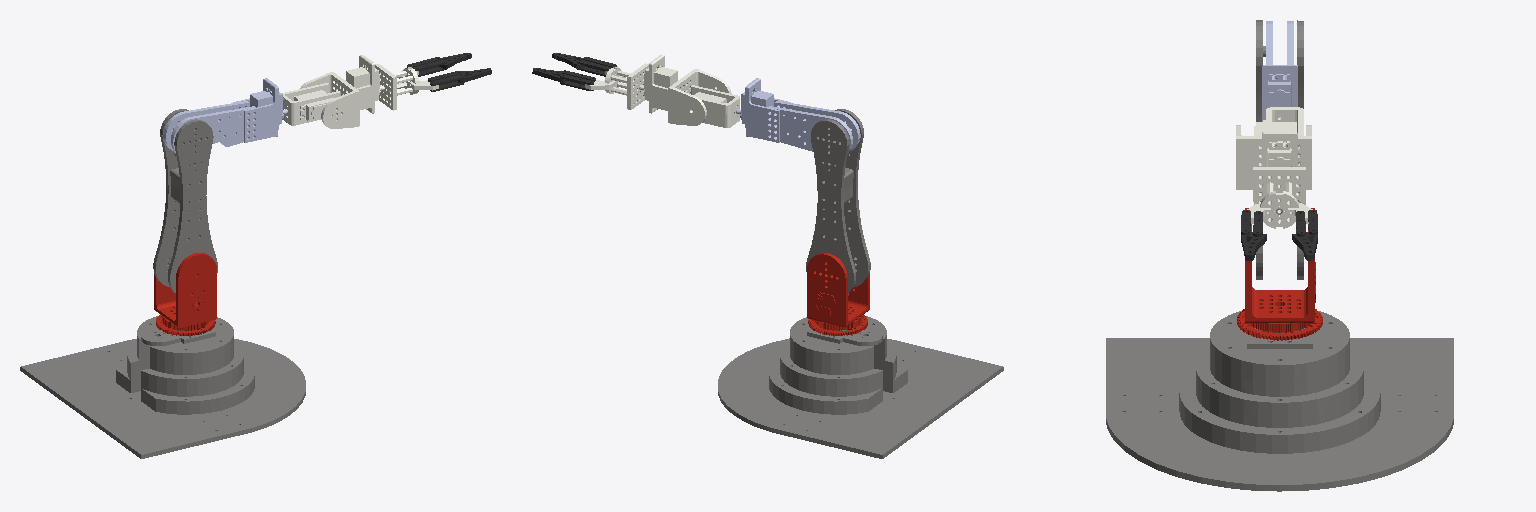
robot.urdf — ra6_v2_description:
<?xml version="1.0" encoding="utf-8"?>
<!-- This URDF was automatically created by SolidWorks to URDF Exporter! Originally created by [author] ([email redacted]) 
     Commit Version: 1.6.0-1-g15f4949  Build Version: 1.6.7594.29634
     For more information, please see http://wiki.ros.org/sw_urdf_exporter -->
<robot
  name="ra6_v2_description">
  <gazebo>
    <plugin filename="libgazebo_ros_control.so" name="control"/>
  </gazebo>
  
  <link
    name="base_link">
    <inertial>
      <origin
        xyz="-0.0140542711697544 -2.18207360791478E-08 0.00299999999999978"
        rpy="0 0 0" />
      <mass
        value="0.47945628174031" />
      <inertia
        ixx="0.00321201871122315"
        ixy="1.58019630837799E-10"
        ixz="-1.82396172262219E-17"
        iyy="0.0031224531436927"
        iyz="-1.04833939071884E-17"
        izz="0.00633159511726462" />
    </inertial>
    <visual>
      <origin
        xyz="0 0 0"
        rpy="0 0 0" />
      <geometry>
        <mesh
          filename="package://ra6_v2_description/meshes/base_link.STL" />
      </geometry>
      <material
        name="">
        <color
          rgba="0.564705882352941 0.556862745098039 0.545098039215686 1" />
      </material>
    </visual>
    <collision>
      <origin
        xyz="0 0 0"
        rpy="0 0 0" />
      <geometry>
        <mesh
          filename="package://ra6_v2_description/meshes/base_link.STL" />
      </geometry>
    </collision>
  </link>
  <link
    name="base">
    <inertial>
      <origin
        xyz="0.00465582272277912 -1.12147552952524E-07 -0.0388814692501041"
        rpy="0 0 0" />
      <mass
        value="0.847797073878397" />
      <inertia
        ixx="0.00191250789301448"
        ixy="4.52157907236518E-09"
        ixz="4.11436397082813E-05"
        iyy="0.0016595870711532"
        iyz="1.04789099927639E-09"
        izz="0.00272115397239837" />
    </inertial>
    <visual>
      <origin
        xyz="0 0 0"
        rpy="0 0 0" />
      <geometry>
        <mesh
          filename="package://ra6_v2_description/meshes/base.STL" />
      </geometry>
      <material
        name="">
        <color
          rgba="0.564705882352941 0.556862745098039 0.545098039215686 1" />
      </material>
    </visual>
    <collision>
      <origin
        xyz="0 0 0"
        rpy="0 0 0" />
      <geometry>
        <mesh
          filename="package://ra6_v2_description/meshes/base.STL" />
      </geometry>
    </collision>
  </link>
  <joint
    name="rigid_1"
    type="fixed">
    <origin
      xyz="0 0 0.078"
      rpy="0 0 0" />
    <parent
      link="base_link" />
    <child
      link="base" />
    <axis
      xyz="0 0 0" />
  </joint>
  <link
    name="link_1">
    <inertial>
      <origin
        xyz="4.38172552685856E-08 -1.25521381516697E-05 0.0385864093403186"
        rpy="0 0 0" />
      <mass
        value="0.0959374083475846" />
      <inertia
        ixx="0.000141767922201664"
        ixy="-3.0047571678898E-08"
        ixz="-1.29608727630884E-09"
        iyy="0.000114437590101475"
        iyz="6.96911959091854E-07"
        izz="7.57931314663248E-05" />
    </inertial>
    <visual>
      <origin
        xyz="0 0 0"
        rpy="0 0 0" />
      <geometry>
        <mesh
          filename="package://ra6_v2_description/meshes/link_1.STL" />
      </geometry>
      <material
        name="">
        <color
          rgba="0.768627450980392 0.207843137254902 0.152941176470588 1" />
      </material>
    </visual>
    <collision>
      <origin
        xyz="0 0 0"
        rpy="0 0 0" />
      <geometry>
        <mesh
          filename="package://ra6_v2_description/meshes/link_1.STL" />
      </geometry>
    </collision>
  </link>
  <joint
    name="joint_1"
    type="revolute">
    <origin
      xyz="0 0 0.011325"
      rpy="0 0 0" />
    <parent
      link="base" />
    <child
      link="link_1" />
    <axis
      xyz="0 0 1" />
    <limit
      effort="30" velocity="1.0" lower="-3.141" upper="3.141" />

  </joint>
  <link
    name="link_2">
    <inertial>
      <origin
        xyz="0.000676327095972762 -0.000267741344243816 0.0846265565078096"
        rpy="0 0 0" />
      <mass
        value="0.15459039863482" />
      <inertia
        ixx="0.000700616768380182"
        ixy="-1.30679472918762E-08"
        ixz="-5.06269794302915E-06"
        iyy="0.000687122012981791"
        iyz="2.55856521066154E-07"
        izz="7.01358986108912E-05" />
    </inertial>
    <visual>
      <origin
        xyz="0 0 0"
        rpy="0 0 0" />
      <geometry>
        <mesh
          filename="package://ra6_v2_description/meshes/link_2.STL" />
      </geometry>
      <material
        name="">
        <color
          rgba="0.564705882352941 0.556862745098039 0.545098039215686 1" />
      </material>
    </visual>
    <collision>
      <origin
        xyz="0 0 0"
        rpy="0 0 0" />
      <geometry>
        <mesh
          filename="package://ra6_v2_description/meshes/link_2.STL" />
      </geometry>
    </collision>
  </link>
  <joint
    name="joint_2"
    type="revolute">
    <origin
      xyz="0 0 0.079175"
      rpy="0 0 0" />
    <parent
      link="link_1" />
    <child
      link="link_2" />
    <axis
      xyz="0 -1 0" />
    <limit
      effort="30" velocity="1.0" lower="-1.05" upper="1.3" />

  </joint>
  <link
    name="link_3">
    <inertial>
      <origin
        xyz="0.0689892331340525 0.000128208989230841 0.00303993015687587"
        rpy="0 0 0" />
      <mass
        value="0.106330141972339" />
      <inertia
        ixx="3.11480390939474E-05"
        ixy="1.10639450234638E-06"
        ixz="-1.2787371632868E-05"
        iyy="0.000251799011261306"
        iyz="4.73970698854002E-07"
        izz="0.000238311887582398" />
    </inertial>
    <visual>
      <origin
        xyz="0 0 0"
        rpy="0 0 0" />
      <geometry>
        <mesh
          filename="package://ra6_v2_description/meshes/link_3.STL" />
      </geometry>
      <material
        name="">
        <color
          rgba="0.792156862745098 0.819607843137255 0.933333333333333 1" />
      </material>
    </visual>
    <collision>
      <origin
        xyz="0 0 0"
        rpy="0 0 0" />
      <geometry>
        <mesh
          filename="package://ra6_v2_description/meshes/link_3.STL" />
      </geometry>
    </collision>
  </link>
  <joint
    name="joint_3"
    type="revolute">
    <origin
      xyz="0.0014944 0 0.17999"
      rpy="0 0 0" />
    <parent
      link="link_2" />
    <child
      link="link_3" />
    <axis
      xyz="0 -1 0" />
    <limit
      effort="30" velocity="1.0" lower="-0.785" upper="1.57" />

  </joint>
  <link
    name="link_4">
    <inertial>
      <origin
        xyz="0.0352186303151772 0.000651786261046783 -0.000240852600342567"
        rpy="0 0 0" />
      <mass
        value="0.0508120689092489" />
      <inertia
        ixx="1.14032161816049E-05"
        ixy="9.69456779605165E-07"
        ixz="1.1757033683992E-07"
        iyy="1.90901672744309E-05"
        iyz="2.11574511431435E-08"
        izz="2.47887618141905E-05" />
    </inertial>
    <visual>
      <origin
        xyz="0 0 0"
        rpy="0 0 0" />
      <geometry>
        <mesh
          filename="package://ra6_v2_description/meshes/link_4.STL" />
      </geometry>
      <material
        name="">
        <color
          rgba="0.972549019607843 0.968627450980392 0.929411764705882 1" />
      </material>
    </visual>
    <collision>
      <origin
        xyz="0 0 0"
        rpy="0 0 0" />
      <geometry>
        <mesh
          filename="package://ra6_v2_description/meshes/link_4.STL" />
      </geometry>
    </collision>
  </link>
  <joint
    name="joint_4"
    type="revolute">
    <origin
      xyz="0.14364 -0.00016175 -0.0015988"
      rpy="0 0 0" />
    <parent
      link="link_3" />
    <child
      link="link_4" />
    <axis
      xyz="1 0 0" />
    <limit
      effort="30" velocity="1.0" lower="-1.57" upper="1.57" />

  </joint>
  <link
    name="link_5">
    <inertial>
      <origin
        xyz="0.0407311125592921 -0.00227194309173936 0.0048575829153889"
        rpy="0 0 0" />
      <mass
        value="0.0806645184388653" />
      <inertia
        ixx="4.30732285547851E-05"
        ixy="-3.80757762759464E-06"
        ixz="-7.48546182306301E-06"
        iyy="6.15131524088532E-05"
        iyz="-8.39861717315056E-07"
        izz="7.19395388835183E-05" />
    </inertial>
    <visual>
      <origin
        xyz="0 0 0"
        rpy="0 0 0" />
      <geometry>
        <mesh
          filename="package://ra6_v2_description/meshes/link_5.STL" />
      </geometry>
      <material
        name="">
        <color
          rgba="0.972549019607843 0.968627450980392 0.929411764705882 1" />
      </material>
    </visual>
    <collision>
      <origin
        xyz="0 0 0"
        rpy="0 0 0" />
      <geometry>
        <mesh
          filename="package://ra6_v2_description/meshes/link_5.STL" />
      </geometry>
    </collision>
  </link>
  <joint
    name="joint_5"
    type="revolute">
    <origin
      xyz="0.04935 -5.5724E-05 -0.00029933"
      rpy="0 0 0" />
    <parent
      link="link_4" />
    <child
      link="link_5" />
    <axis
      xyz="0 -1 0" />
    <limit 
      effort="30" velocity="1.0" lower="-1.57" upper="1.57" />
  
  </joint>
  <link
    name="eef_base">
    <inertial>
      <origin
        xyz="0.0229124462951694 -2.60638360647936E-05 0.00020848991544109"
        rpy="0 0 0" />
      <mass
        value="0.0222444378599161" />
      <inertia
        ixx="7.05860430009182E-06"
        ixy="5.00108122142689E-09"
        ixz="-5.17966834745354E-08"
        iyy="1.14260551522817E-05"
        iyz="-1.13814694746793E-08"
        izz="1.39119959096935E-05" />
    </inertial>
    <visual>
      <origin
        xyz="0 0 0"
        rpy="0 0 0" />
      <geometry>
        <mesh
          filename="package://ra6_v2_description/meshes/eef_base.STL" />
      </geometry>
      <material
        name="">
        <color
          rgba="0.972549019607843 0.968627450980392 0.929411764705882 1" />
      </material>
    </visual>
    <collision>
      <origin
        xyz="0 0 0"
        rpy="0 0 0" />
      <geometry>
        <mesh
          filename="package://ra6_v2_description/meshes/eef_base.STL" />
      </geometry>
    </collision>
  </link>
  <joint
    name="joint_6"
    type="continuous">
    <origin
      xyz="0.08877 -0.00010102 0.00075224"
      rpy="0 0 0" />
    <parent
      link="link_5" />
    <child
      link="eef_base" />
    <axis
      xyz="1 0 0" />
  </joint>
  <link
    name="gripper_target">
    <inertial>
      <origin
        xyz="0.000499983443461582 -3.87878472091208E-07 4.05838497624655E-06"
        rpy="0 0 0" />
      <mass
        value="1.5707963267947E-05" />
      <inertia
        ixx="1.02098125119427E-10"
        ixy="-5.66059615729079E-14"
        ixz="4.2148560239533E-13"
        iyy="5.23599419817768E-11"
        iyz="-4.79683120808511E-16"
        izz="5.23634492601128E-11" />
    </inertial>
    <visual>
      <origin
        xyz="0 0 0"
        rpy="0 0 0" />
      <geometry>
        <mesh
          filename="package://ra6_v2_description/meshes/gripper_target.STL" />
      </geometry>
      <material
        name="">
        <color
          rgba="0.627450980392157 0.627450980392157 0.627450980392157 1" />
      </material>
    </visual>
    <collision>
      <origin
        xyz="0 0 0"
        rpy="0 0 0" />
      <geometry>
        <mesh
          filename="package://ra6_v2_description/meshes/gripper_target.STL" />
      </geometry>
    </collision>
  </link>
  <joint
    name="rigid_2"
    type="fixed">
    <origin
      xyz="0.04208 -4.789E-05 0.00035659"
      rpy="0 0 0" />
    <parent
      link="eef_base" />
    <child
      link="gripper_target" />
    <axis
      xyz="0 0 0" />
  </joint>
  <link
    name="claw_1">
    <inertial>
      <origin
        xyz="0.0346939000678241 -0.00579914714961982 0.000267372897620466"
        rpy="0 0 0" />
      <mass
        value="0.00663394989678391" />
      <inertia
        ixx="2.68791318978528E-07"
        ixy="4.58910610812215E-08"
        ixz="-2.57852478406989E-08"
        iyy="3.20910484993189E-06"
        iyz="-1.87136329466492E-10"
        izz="3.33438674573977E-06" />
    </inertial>
    <visual>
      <origin
        xyz="0 0 0"
        rpy="0 0 0" />
      <geometry>
        <mesh
          filename="package://ra6_v2_description/meshes/claw_1.STL" />
      </geometry>
      <material
        name="">
        <color
          rgba="0.250980392156863 0.250980392156863 0.250980392156863 1" />
      </material>
    </visual>
    <collision>
      <origin
        xyz="0 0 0"
        rpy="0 0 0" />
      <geometry>
        <mesh
          filename="package://ra6_v2_description/meshes/claw_1.STL" />
      </geometry>
    </collision>
  </link>
  <joint
    name="joint_7"
    type="continuous">
    <origin
      xyz="0.057459 -0.018065 0.00040427"
      rpy="0 0 0" />
    <parent
      link="eef_base" />
    <child
      link="claw_1" />
    <axis
      xyz="0 0 1" />
  </joint>
  <link
    name="claw_2">
    <inertial>
      <origin
        xyz="0.0346625839944625 0.00598083615355567 0.000321197099321879"
        rpy="0 0 0" />
      <mass
        value="0.00663394989678414" />
      <inertia
        ixx="2.69361151296823E-07"
        ixy="-6.12834299678873E-08"
        ixz="-2.62725254486619E-08"
        iyy="3.20854333396856E-06"
        iyz="-1.0984792750464E-09"
        izz="3.33437842938532E-06" />
    </inertial>
    <visual>
      <origin
        xyz="0 0 0"
        rpy="0 0 0" />
      <geometry>
        <mesh
          filename="package://ra6_v2_description/meshes/claw_2.STL" />
      </geometry>
      <material
        name="">
        <color
          rgba="0.250980392156863 0.250980392156863 0.250980392156863 1" />
      </material>
    </visual>
    <collision>
      <origin
        xyz="0 0 0"
        rpy="0 0 0" />
      <geometry>
        <mesh
          filename="package://ra6_v2_description/meshes/claw_2.STL" />
      </geometry>
    </collision>
  </link>
  <joint
    name="joint_8"
    type="continuous">
    <origin
      xyz="0.057499 0.017935 0.0005699"
      rpy="0 0 0" />
    <parent
      link="eef_base" />
    <child
      link="claw_2" />
    <axis
      xyz="0 0 1" />
  </joint>

<transmission name="joint_1_tran">
  <type>transmission_interface/SimpleTransmission</type>
  <joint name="joint_1">
    <hardwareInterface>hardware_interface/PositionJointInterface</hardwareInterface>
  </joint>
  <actuator name="joint_1_actr">
    <hardwareInterface>hardware_interface/PositionJointInterface</hardwareInterface>
    <mechanicalReduction>1</mechanicalReduction>
  </actuator>
</transmission>

<transmission name="joint_2_tran">
  <type>transmission_interface/SimpleTransmission</type>
  <joint name="joint_2">
    <hardwareInterface>hardware_interface/PositionJointInterface</hardwareInterface>
  </joint>
  <actuator name="joint_2_actr">
    <hardwareInterface>hardware_interface/PositionJointInterface</hardwareInterface>
    <mechanicalReduction>1</mechanicalReduction>
  </actuator>
</transmission>

<transmission name="joint_3_tran">
  <type>transmission_interface/SimpleTransmission</type>
  <joint name="joint_3">
    <hardwareInterface>hardware_interface/PositionJointInterface</hardwareInterface>
  </joint>
  <actuator name="joint_3_actr">
    <hardwareInterface>hardware_interface/PositionJointInterface</hardwareInterface>
    <mechanicalReduction>1</mechanicalReduction>
  </actuator>
</transmission>

<transmission name="joint_4_tran">
  <type>transmission_interface/SimpleTransmission</type>
  <joint name="joint_4">
    <hardwareInterface>hardware_interface/PositionJointInterface</hardwareInterface>
  </joint>
  <actuator name="joint_4_actr">
    <hardwareInterface>hardware_interface/PositionJointInterface</hardwareInterface>
    <mechanicalReduction>1</mechanicalReduction>
  </actuator>
</transmission>

<transmission name="joint_5_tran">
  <type>transmission_interface/SimpleTransmission</type>
  <joint name="joint_5">
    <hardwareInterface>hardware_interface/PositionJointInterface</hardwareInterface>
  </joint>
  <actuator name="joint_5_actr">
    <hardwareInterface>hardware_interface/PositionJointInterface</hardwareInterface>
    <mechanicalReduction>1</mechanicalReduction>
  </actuator>
</transmission>

<transmission name="joint_6_tran">
  <type>transmission_interface/SimpleTransmission</type>
  <joint name="joint_6">
    <hardwareInterface>hardware_interface/PositionJointInterface</hardwareInterface>
  </joint>
  <actuator name="joint_6_actr">
    <hardwareInterface>hardware_interface/PositionJointInterface</hardwareInterface>
    <mechanicalReduction>1</mechanicalReduction>
  </actuator>
</transmission>

<transmission name="joint_7_tran">
  <type>transmission_interface/SimpleTransmission</type>
  <joint name="joint_7">
    <hardwareInterface>hardware_interface/PositionJointInterface</hardwareInterface>
  </joint>
  <actuator name="joint_7_actr">
    <hardwareInterface>hardware_interface/PositionJointInterface</hardwareInterface>
    <mechanicalReduction>1</mechanicalReduction>
  </actuator>
</transmission>

<transmission name="joint_8_tran">
  <type>transmission_interface/SimpleTransmission</type>
  <joint name="joint_8">
    <hardwareInterface>hardware_interface/PositionJointInterface</hardwareInterface>
  </joint>
  <actuator name="joint_8_actr">
    <hardwareInterface>hardware_interface/PositionJointInterface</hardwareInterface>
    <mechanicalReduction>1</mechanicalReduction>
  </actuator>
</transmission>

<material name="silver">
  <color rgba="0.700 0.700 0.700 1.000"/>
</material>

<gazebo reference="base_link">
  <material>Gazebo/Black</material>
  <mu1>0.2</mu1>
  <mu2>0.2</mu2>
  <selfCollide>true</selfCollide>
  <gravity>true</gravity>
</gazebo>

<gazebo reference="base">
  <material>Gazebo/FlatBlack</material>
  <mu1>0.2</mu1>
  <mu2>0.2</mu2>
  <selfCollide>true</selfCollide>
</gazebo>

<gazebo reference="link_1">
  <material>Gazebo/White</material>
  <mu1>0.2</mu1>
  <mu2>0.2</mu2>
  <selfCollide>true</selfCollide>
</gazebo>

<gazebo reference="link_2">
  <material>Gazebo/FlatBlack</material>
  <mu1>0.2</mu1>
  <mu2>0.2</mu2>
  <selfCollide>true</selfCollide>
</gazebo>

<gazebo reference="link_3">
  <material>Gazebo/FlatBlack</material>
  <mu1>0.2</mu1>
  <mu2>0.2</mu2>
  <selfCollide>true</selfCollide>
</gazebo>

<gazebo reference="link_4">
  <material>Gazebo/White</material>
  <mu1>0.2</mu1>
  <mu2>0.2</mu2>
  <selfCollide>true</selfCollide>
</gazebo>

<gazebo reference="link_5">
  <material>Gazebo/Grey</material>
  <mu1>0.2</mu1>
  <mu2>0.2</mu2>
  <selfCollide>true</selfCollide>
</gazebo>

<gazebo reference="eef_base">
  <material>Gazebo/FlatBlack</material>
  <mu1>0.2</mu1>
  <mu2>0.2</mu2>
  <selfCollide>true</selfCollide>
</gazebo>

<gazebo reference="claw_1">
  <material>Gazebo/Black</material>
  <mu1>0.2</mu1>
  <mu2>0.2</mu2>
  <selfCollide>true</selfCollide>
</gazebo>

<gazebo reference="claw_2">
  <material>Gazebo/Black</material>
  <mu1>0.2</mu1>
  <mu2>0.2</mu2>
  <selfCollide>true</selfCollide>
</gazebo>
<link name="world" />
  <joint name="world_joint" type="fixed">
    <parent link="world" />
    <child link = "base_link" />
    <origin xyz="0.0 0.0 0.0" rpy="0.0 0.0 0.0" />
  </joint>
</robot>

--- Facts derived from the render (not from the file) ---
Views: 3 orthographic renders of the robot side by side, from view 1: azimuth 30°, elevation 25°; view 2: azimuth 150°, elevation 25°; view 3: azimuth 270°, elevation 25°.
Robot: ra6_v2_description — 12 links, 11 joints (5 revolute, 3 continuous, 3 fixed); root link world; default pose: all joints at 0.
Links seen in each view (by area): view 1: base_link, base, link_2, link_1, link_3, link_5, link_4, eef_base, claw_1, claw_2; view 2: base_link, base, link_2, link_3, link_1, link_5, link_4, eef_base, claw_2, claw_1; view 3: base_link, base, link_1, link_5, eef_base, link_3, link_2, link_4, claw_2, claw_1.
Boxes of the visible links, x1,y1,x2,y2 form: base_link: (20,339,305,458); base: (116,316,254,414); link_2: (153,109,217,292); link_1: (154,253,216,335); link_3: (163,78,287,152); link_5: (300,55,384,128); link_4: (282,83,340,125); eef_base: (375,64,438,110); claw_1: (428,68,491,91); claw_2: (407,53,471,76); base_link: (718,338,1003,458); base: (769,316,907,414); link_2: (806,109,870,292); link_3: (736,78,860,152); link_1: (807,253,869,335); link_5: (639,55,731,125); link_4: (691,85,739,127); eef_base: (585,63,648,109); claw_2: (532,68,595,90); claw_1: (552,53,616,76); base_link: (1106,338,1453,491); base: (1179,311,1380,453); link_1: (1237,208,1322,340); link_5: (1236,125,1311,192); eef_base: (1241,167,1317,228); link_3: (1262,21,1297,121); link_2: (1256,20,1303,279); link_4: (1254,107,1303,163); claw_2: (1292,209,1317,260); claw_1: (1241,210,1266,260).
Bounding box of the posed robot: 0.5731 × 0.3 × 0.3918 m (x, y, z).
11 mesh visuals loaded from 11 distinct referenced files (11 binary STL).